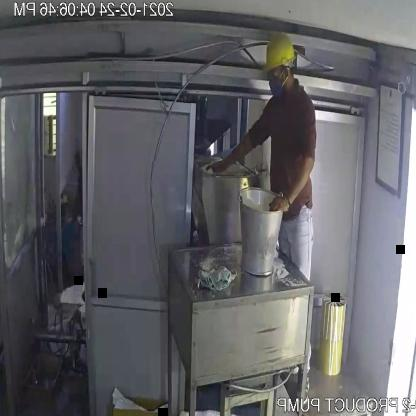helmet: (260, 28, 298, 80)
